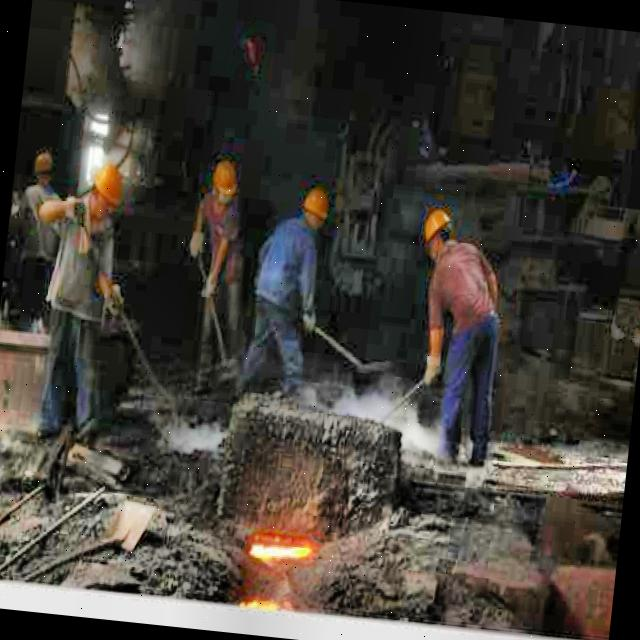helmet: (78, 160, 125, 223), (419, 206, 459, 266), (207, 155, 240, 213), (300, 185, 329, 230)
